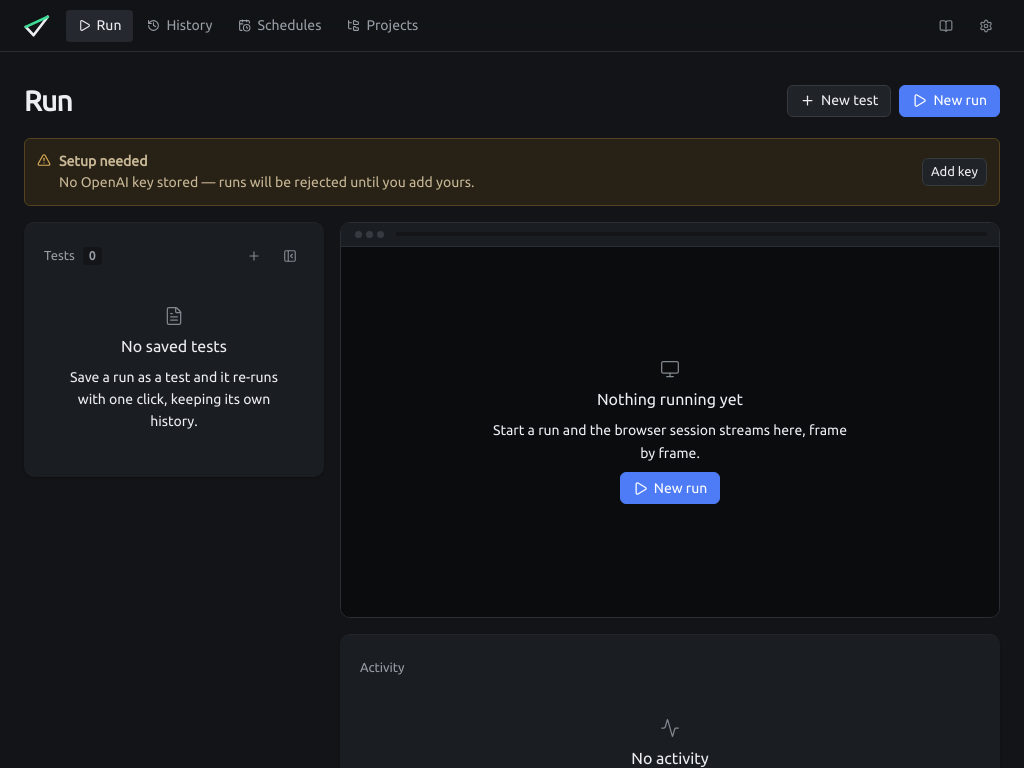
Scenario: Billing panel (US-022) › names the renewal date on an active subscription
The width and height of the screenshot is (1024, 768).
expect the text "History" is shown: met, box [166,15,212,36]
Step 1. Click the button named "Settings" → (986, 26), box [972,12,1000,40]
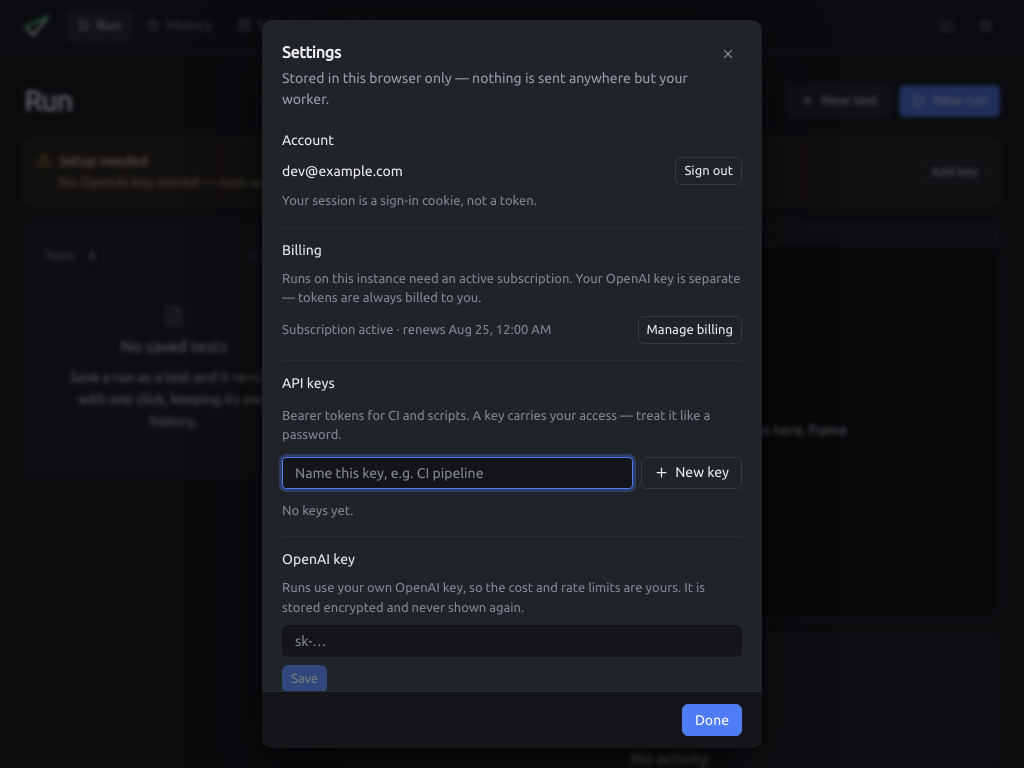
expect the text "Subscription active · renews Aug 25, 12:00 AM" is shown: met, box [282,322,551,336]
